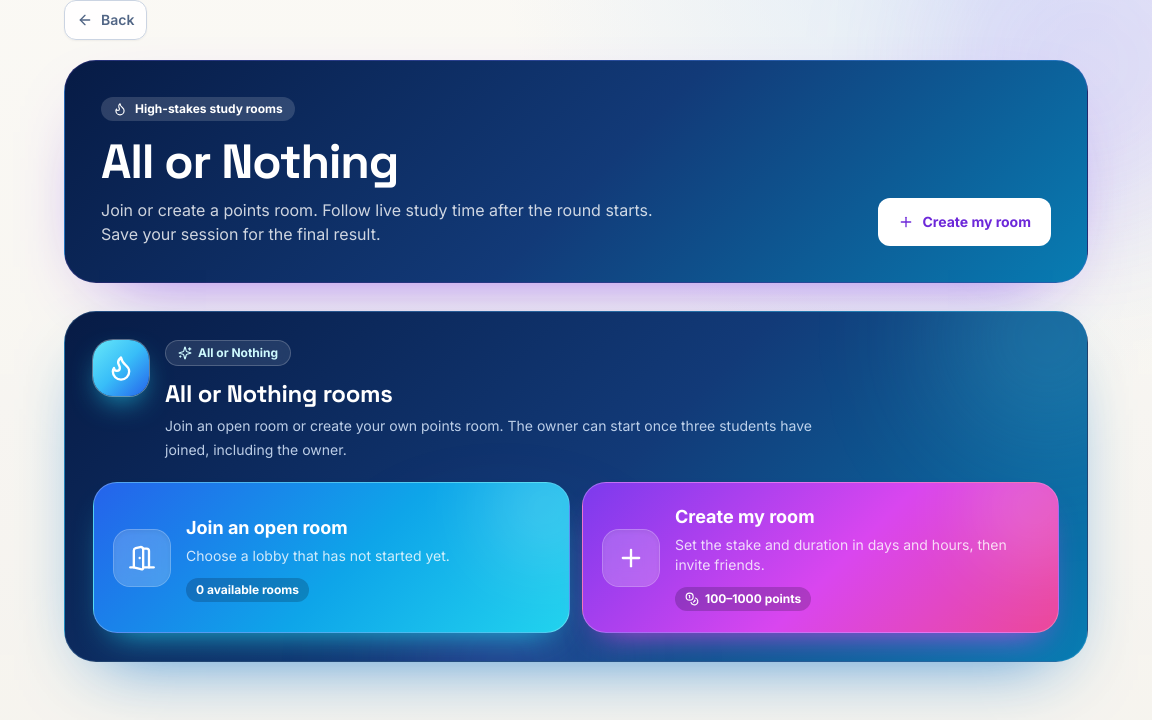
Test case: lets the host choose days and hours and rejects durations outside the allowed range
Click the button "Create my room".
click(965, 222)  # box 878,198 -> 1051,246
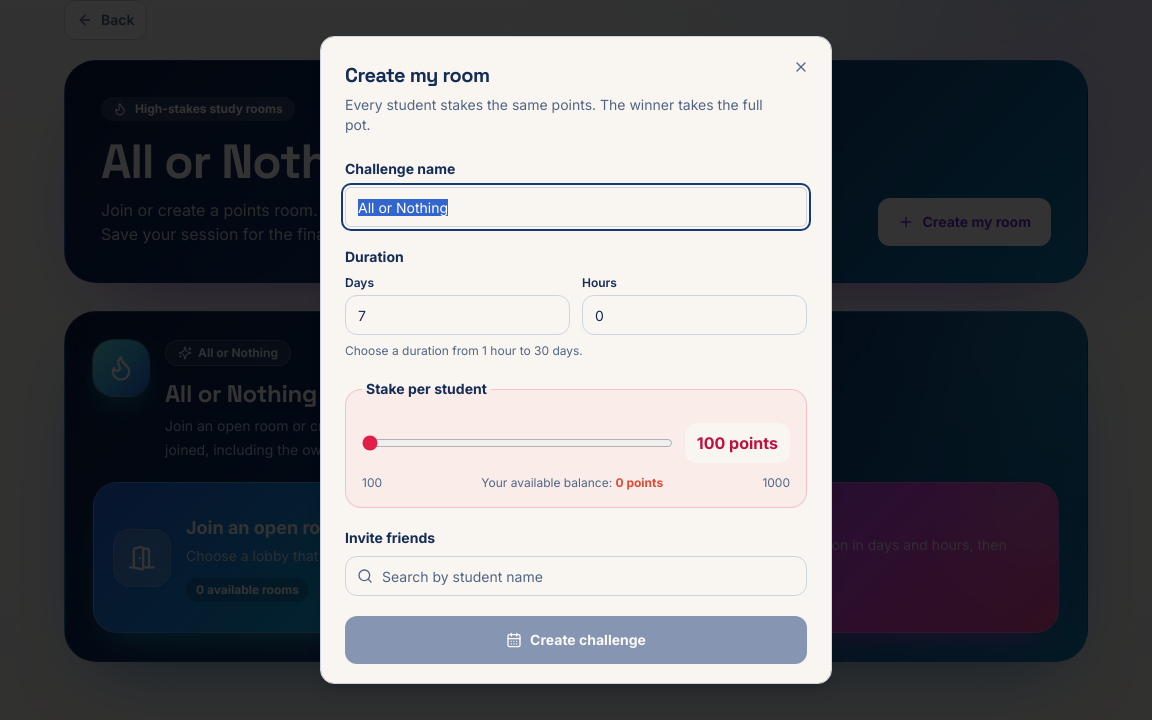
Replace the text in the number field labelled "Days" with "0" at coordinates (458, 315), box 345,295 -> 570,335
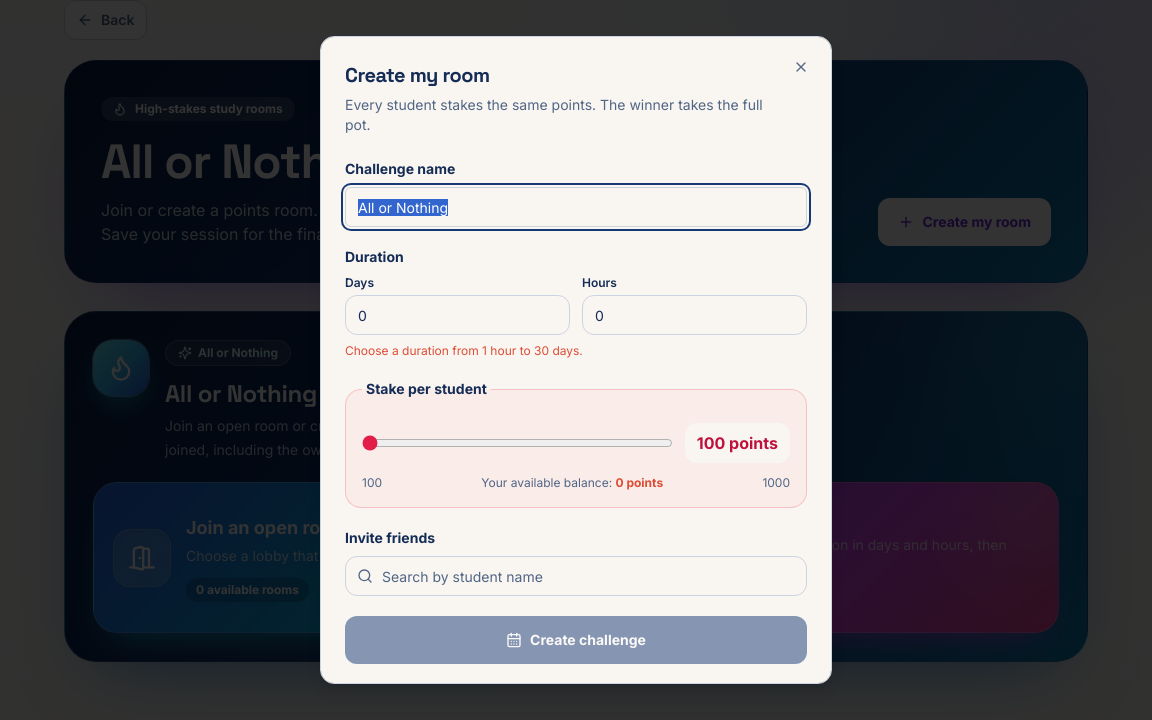
Result: the button "Create challenge" is disabled at 345,616 -> 807,664
Replace the text in the number field labelled "Hours" with "4" at coordinates (694, 315), box 582,295 -> 807,335
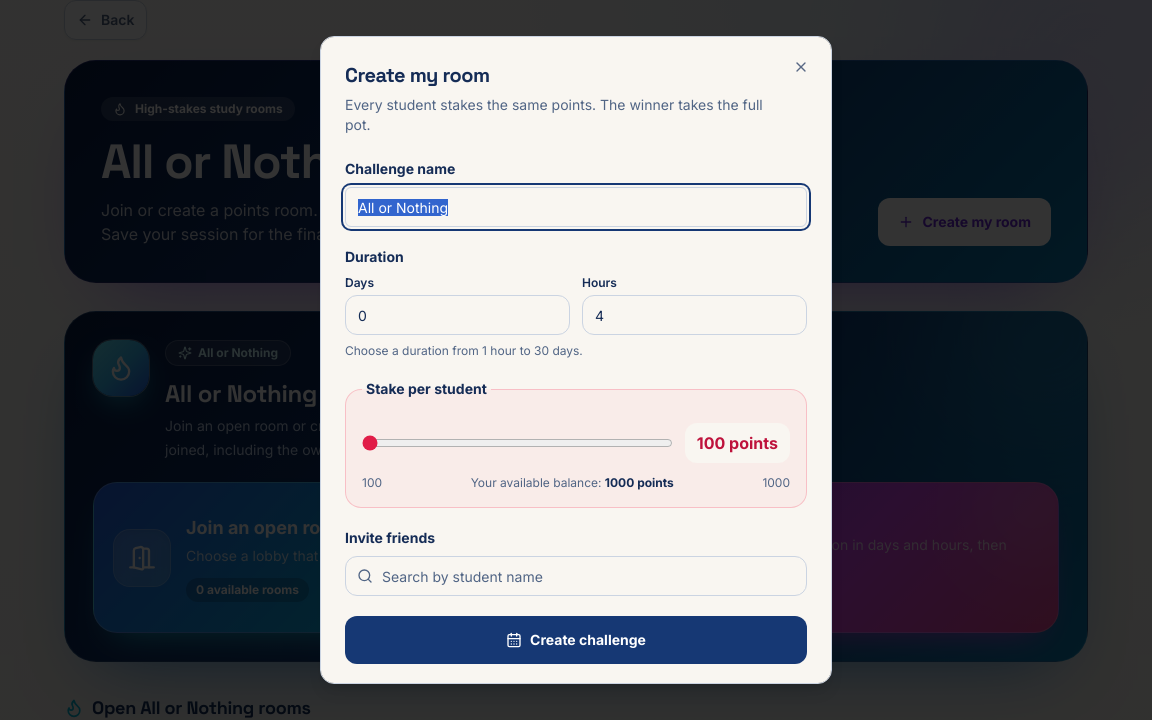
Result: the button "Create challenge" is enabled at 345,616 -> 807,664
Replace the text in the number field labelled "Days" with "30" at coordinates (458, 315), box 345,295 -> 570,335
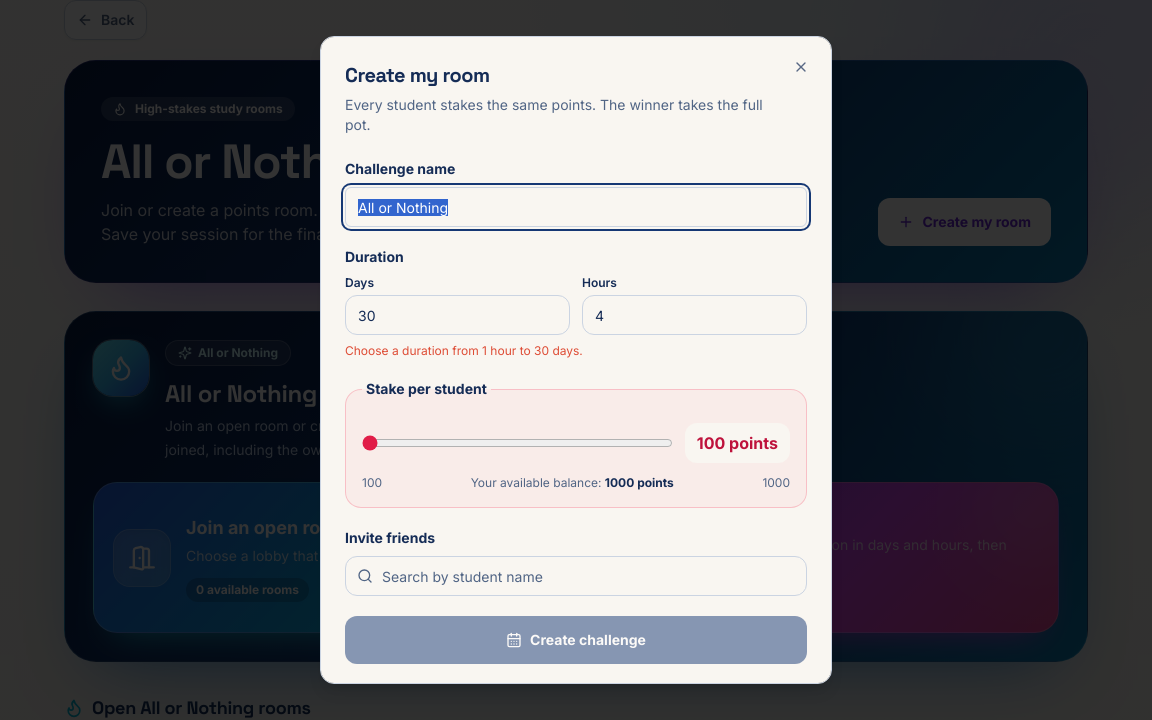
Result: the button "Create challenge" is disabled at 345,616 -> 807,664
Replace the text in the number field labelled "Days" with "1" at coordinates (458, 315), box 345,295 -> 570,335
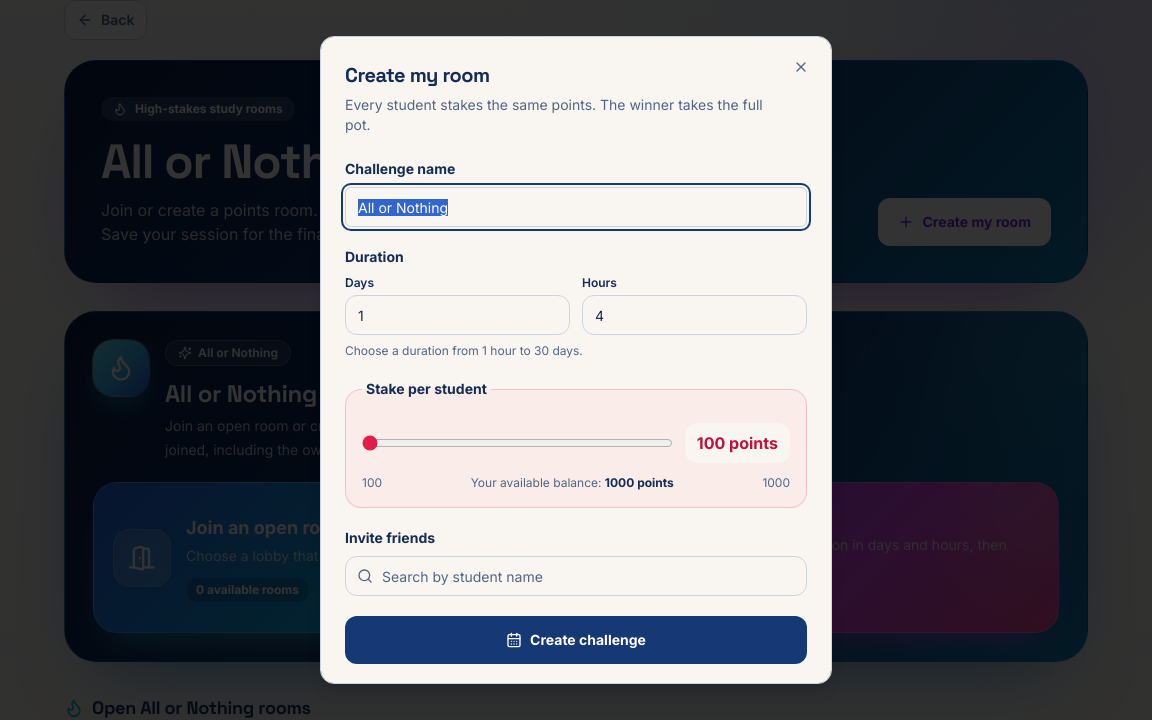
Replace the text in the number field labelled "Hours" with "5" at coordinates (694, 315), box 582,295 -> 807,335
Click the button "Create challenge".
click(576, 640)  # box 345,616 -> 807,664
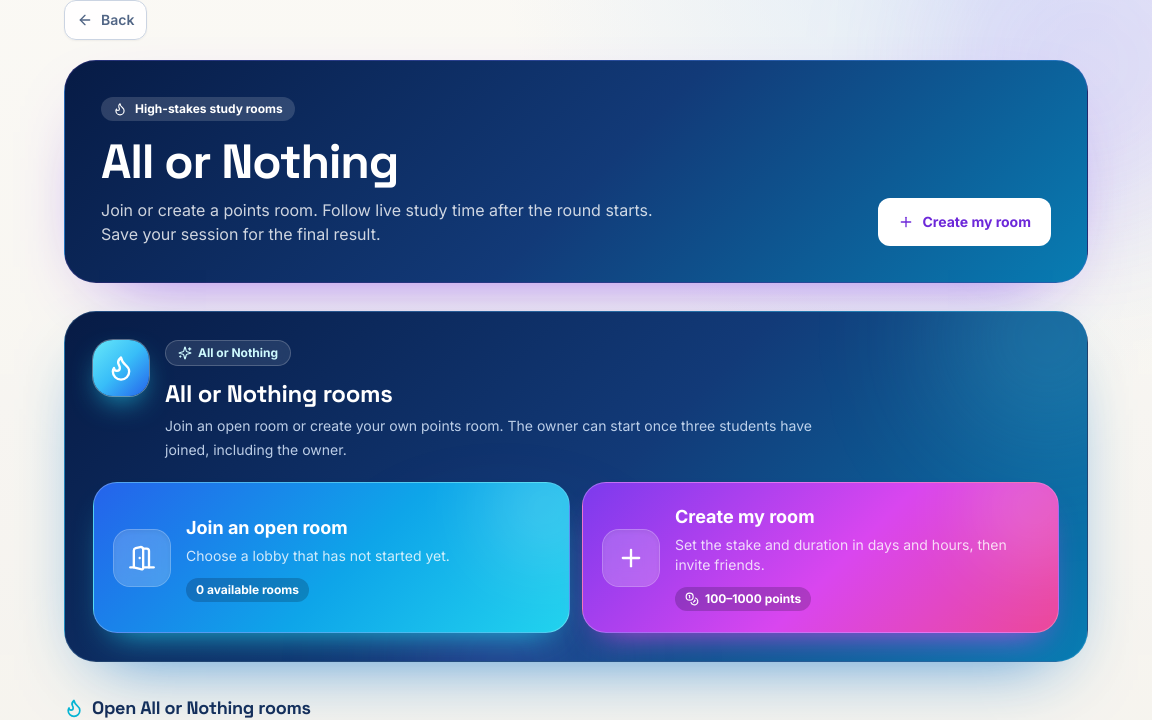
Result: the dialog is gone
